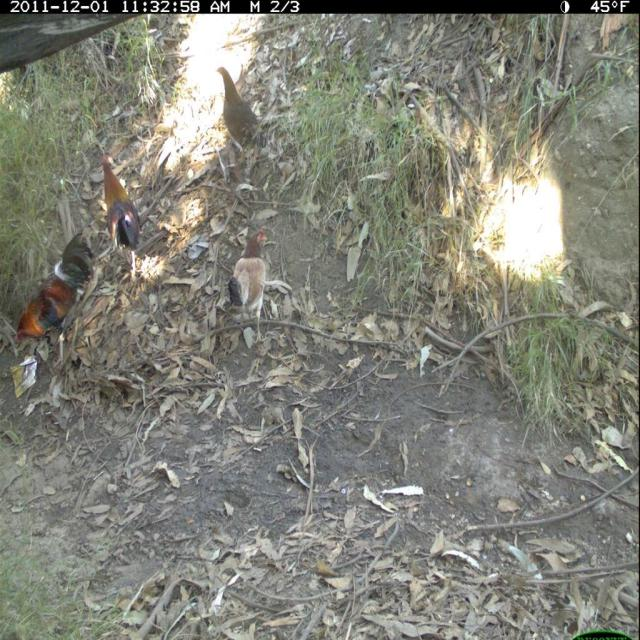bird: (12, 229, 98, 373), (213, 64, 270, 171), (99, 151, 143, 284), (226, 225, 271, 349)
